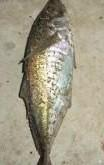fish: (18, 0, 76, 164)
